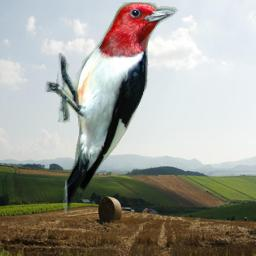Woodpecker: (44, 2, 179, 216)
